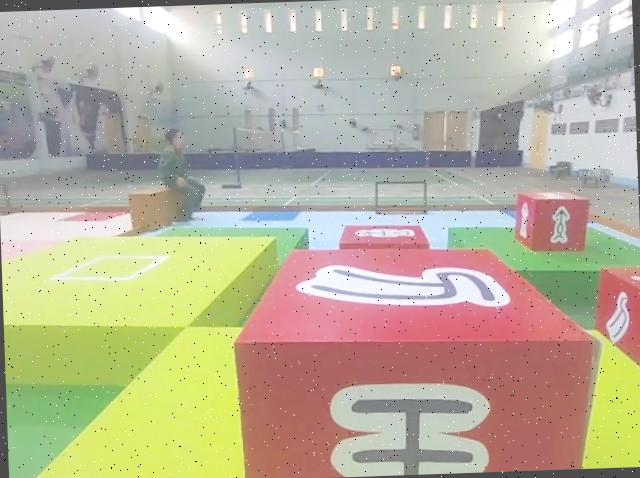R2 Fake: (229, 236, 601, 478)
R2 Real: (514, 187, 592, 254), (599, 262, 640, 382)
